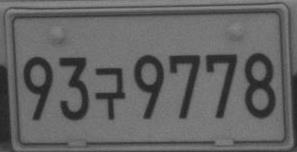3: (58, 56, 90, 121)
7: (205, 53, 238, 118), (168, 54, 200, 118)
8: (243, 51, 276, 118)
9: (133, 54, 164, 120), (22, 56, 53, 120)
구: (94, 66, 125, 120)
